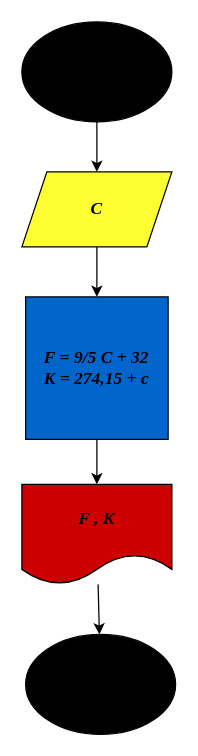
The diagram is 198 pixels wide and 756 high, and some of its shapes have lost their labels. The shapes that lost their labels are listed below. From the top down, each one's centre as x and y in pixels, then its label:
At point (96, 71): "INICIO".
At point (100, 683): "FIN".
